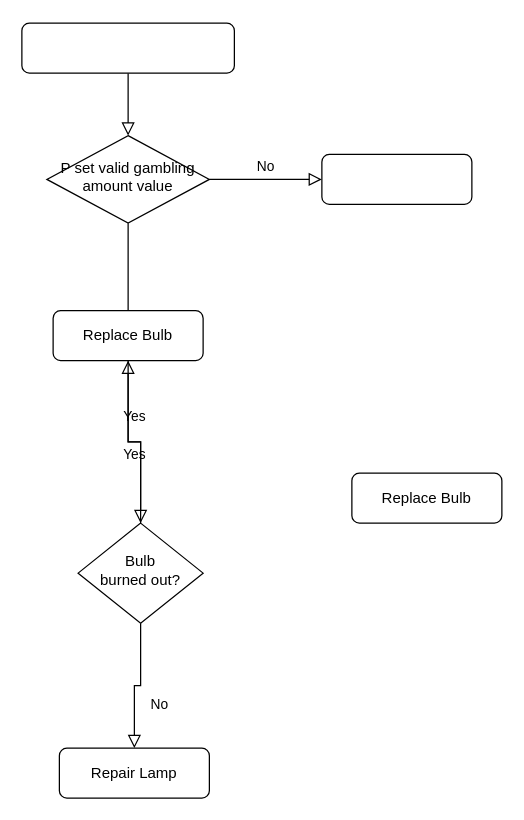
Image size: 524x820. Some labels were removed from this diagram. The centre of each missing label's shape, as x and y in pixels:
"Game starts - const playerMoney = 100 - create deck and shullfe it" goes at (x=127, y=47).
"try again" goes at (x=396, y=178).
